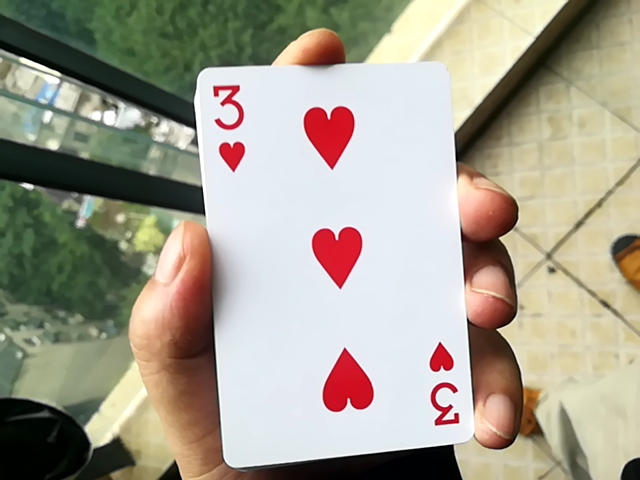hx 3: (192, 48, 471, 472)
